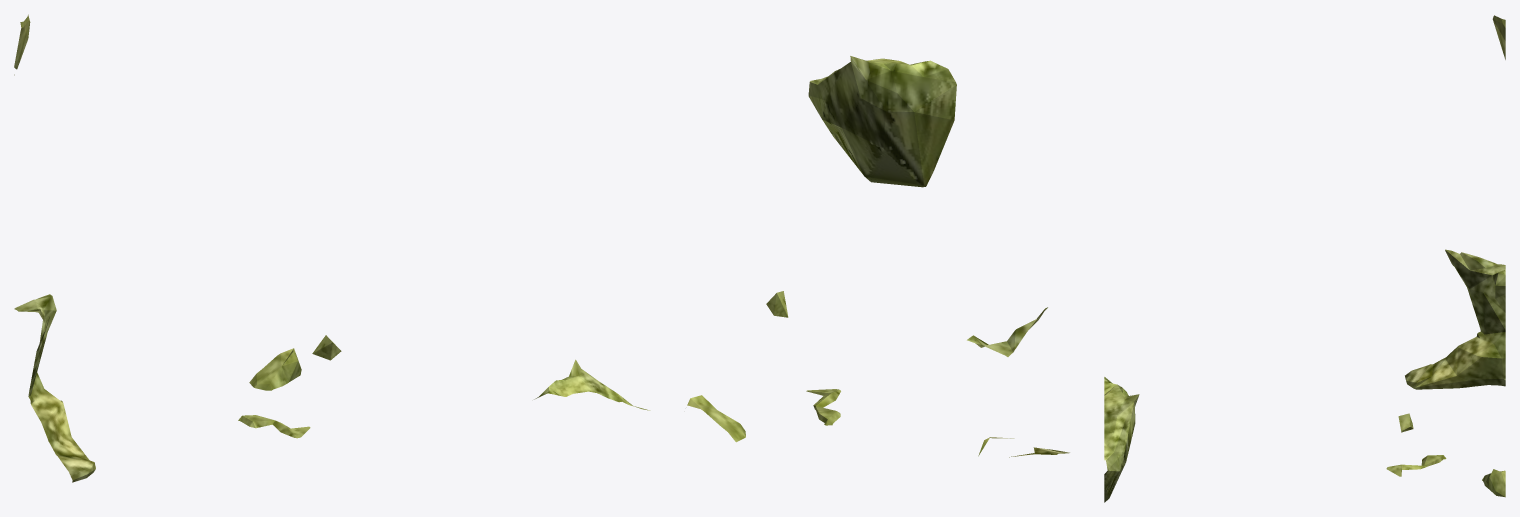
3 views of the same model, side by side, from view 1: azimuth 30°, elevation 25°; view 2: azimuth 150°, elevation 25°; view 3: azimuth 270°, elevation 25° (orthographic). The views are drawn at different scales.
Bounding box in the file's own units: 2.95 × 2.95 × 2.95.
1 material, 1 textured.
